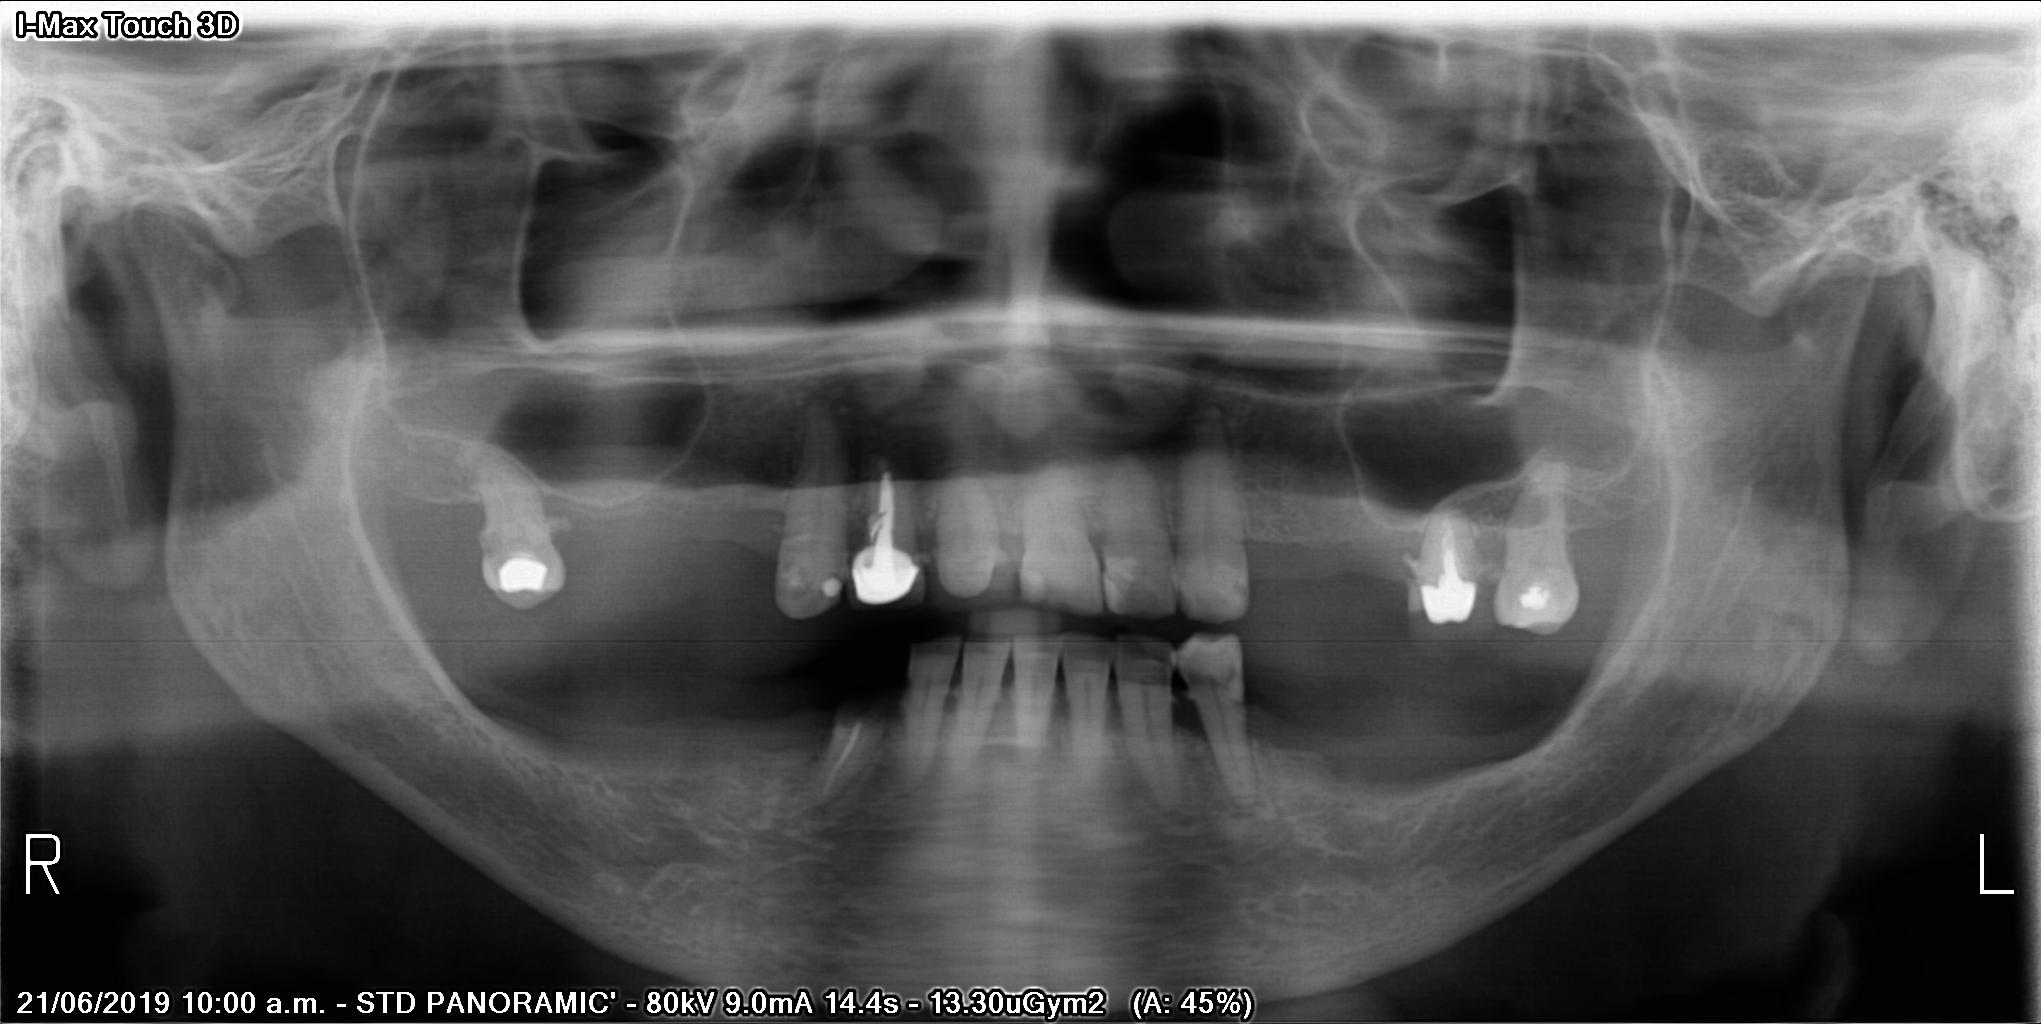Çürük: (838, 536, 930, 614), (1413, 555, 1483, 633), (491, 545, 551, 605)
Çürük Bölgesi: (1186, 670, 1224, 695)
